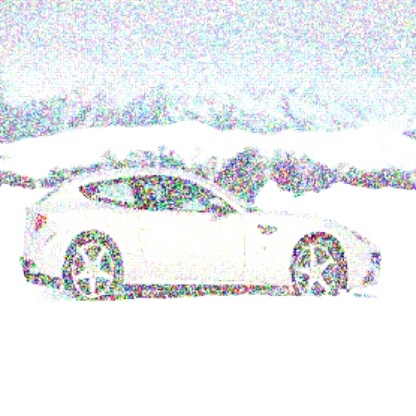Vehicle: (17, 161, 386, 303)
